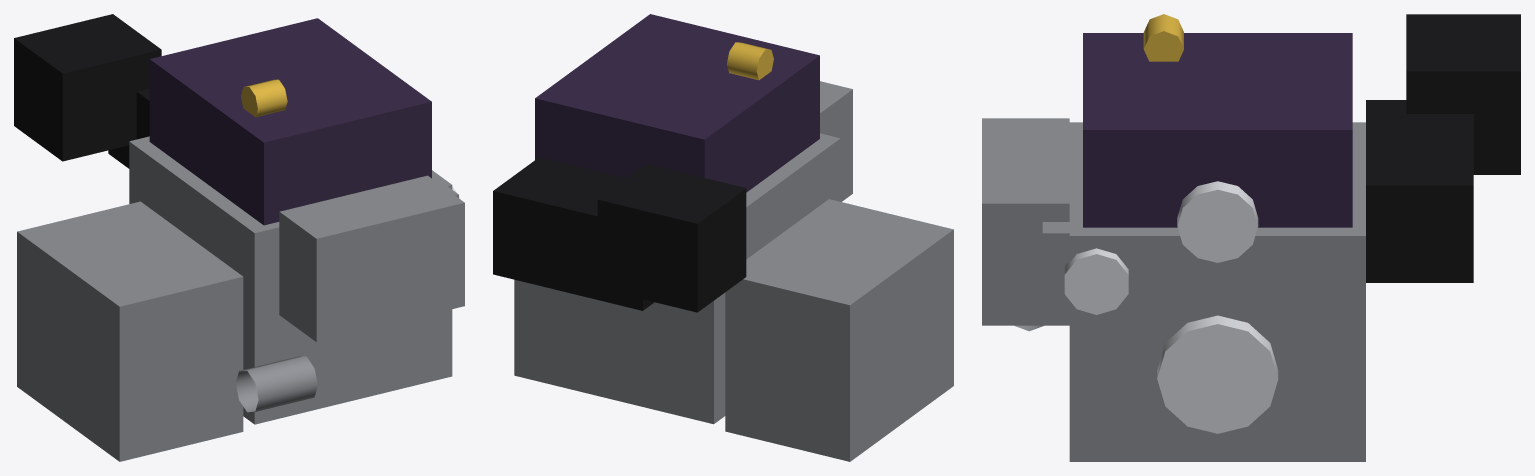
File: engine.obj
3 renders of one model, left to right at view 1: azimuth 30°, elevation 25°; view 2: azimuth 150°, elevation 25°; view 3: azimuth 270°, elevation 25°, orthographic. The views are drawn at different scales.
Parts seen in each view (by area): view 1: Engine; view 2: Engine; view 3: Engine.
Part boxes in pixels (x1=…): Engine: x1=14, y1=14, x2=464, y2=461; Engine: x1=493, y1=14, x2=953, y2=461; Engine: x1=982, y1=14, x2=1520, y2=461.
Bounding box in the file's own units: 0.68 × 0.61 × 0.8.
